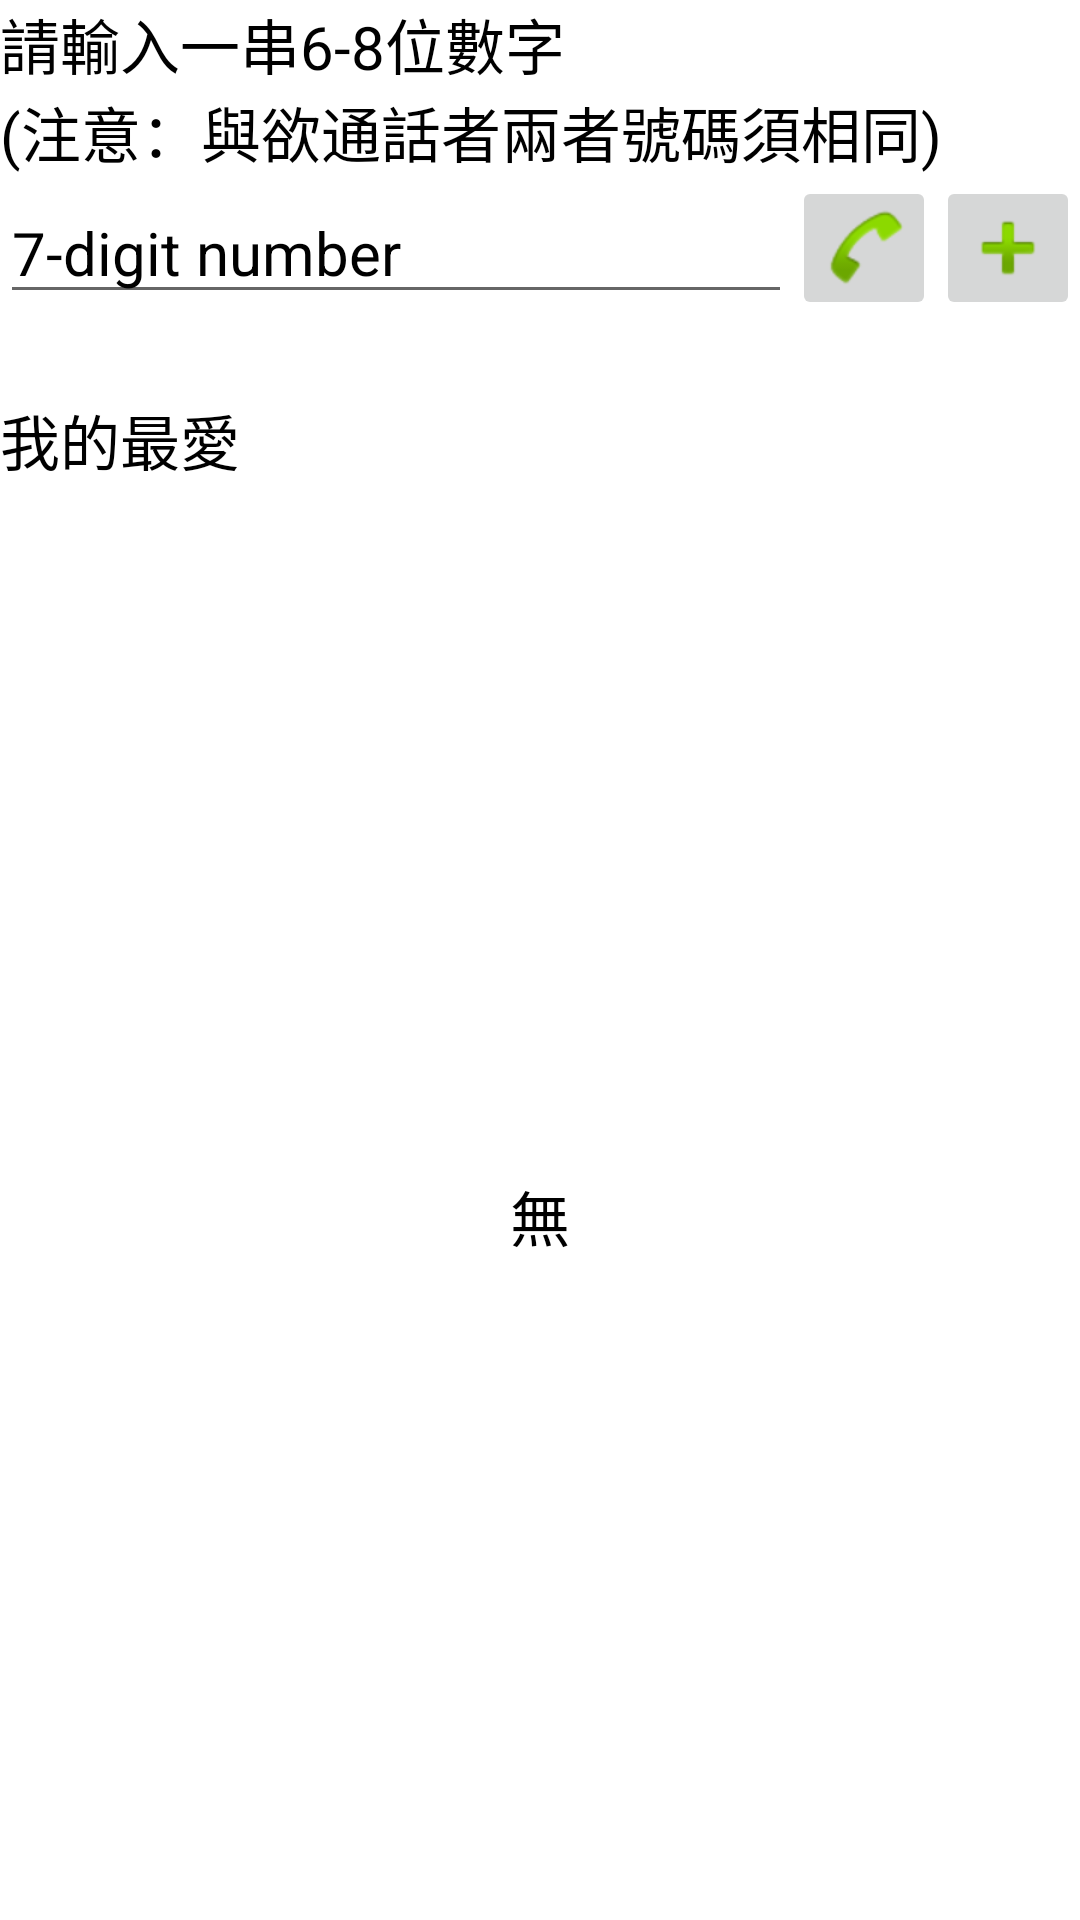

Where icons sit on this 1080*1920 app screen, as (x1, y1, x2, y2):
Connect to the room: (804, 194, 924, 302)
